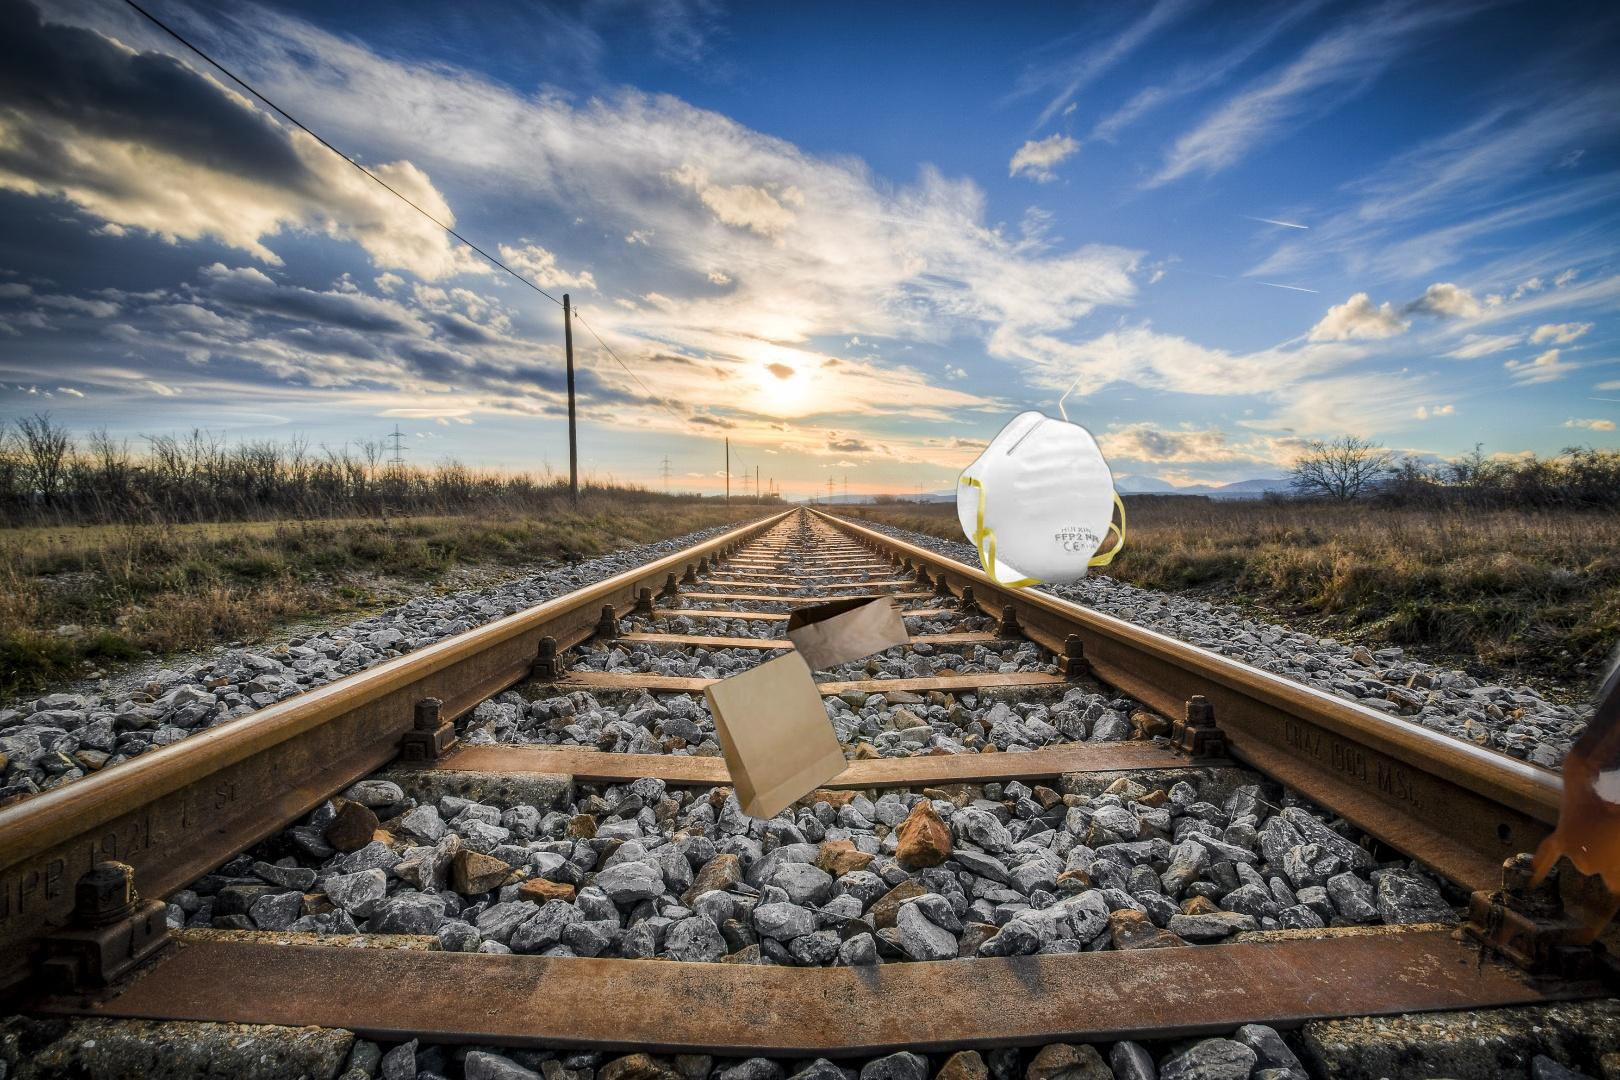glass: (1474, 560, 1620, 945)
paper-bag: (700, 592, 912, 824)
trash: (953, 407, 1129, 591)
